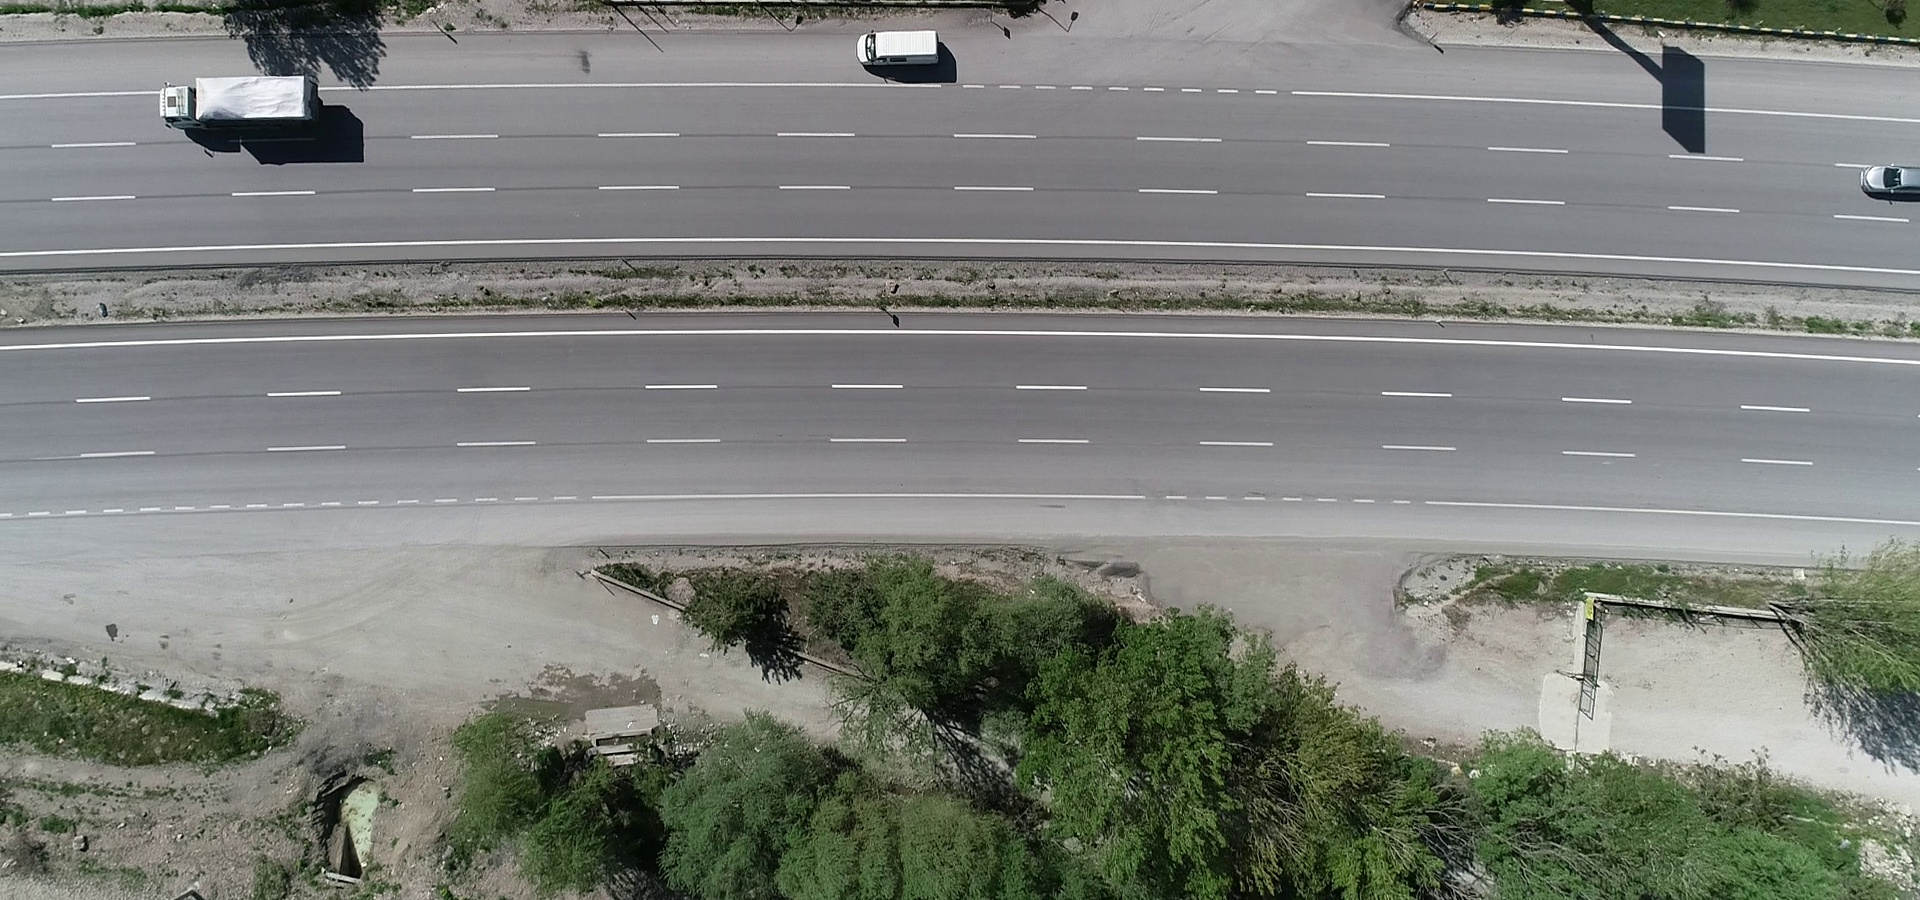arac: (157, 62, 320, 138), (850, 24, 958, 69), (1858, 158, 1920, 200)
